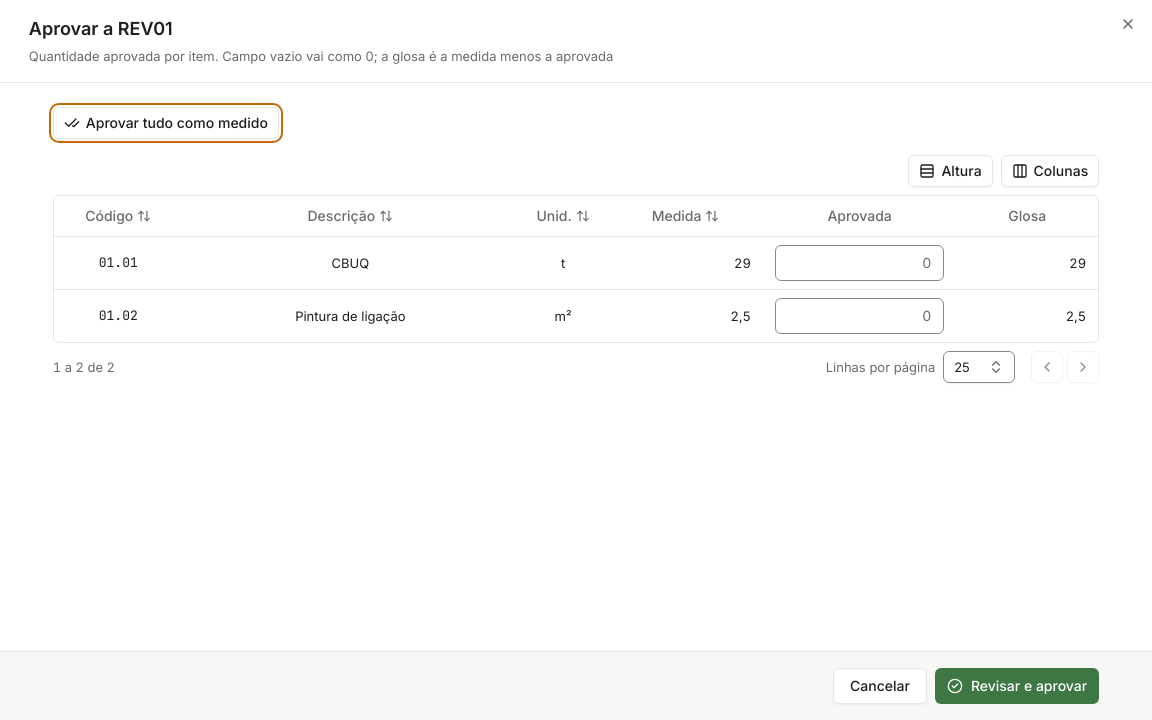
Scenario: AprovarDrawer › valor inválido fica no campo e não abre a confirmação
In the field with placeholder "0" in the row of "01.01": (860, 262) 775,244 -> 944,280, type "abc"
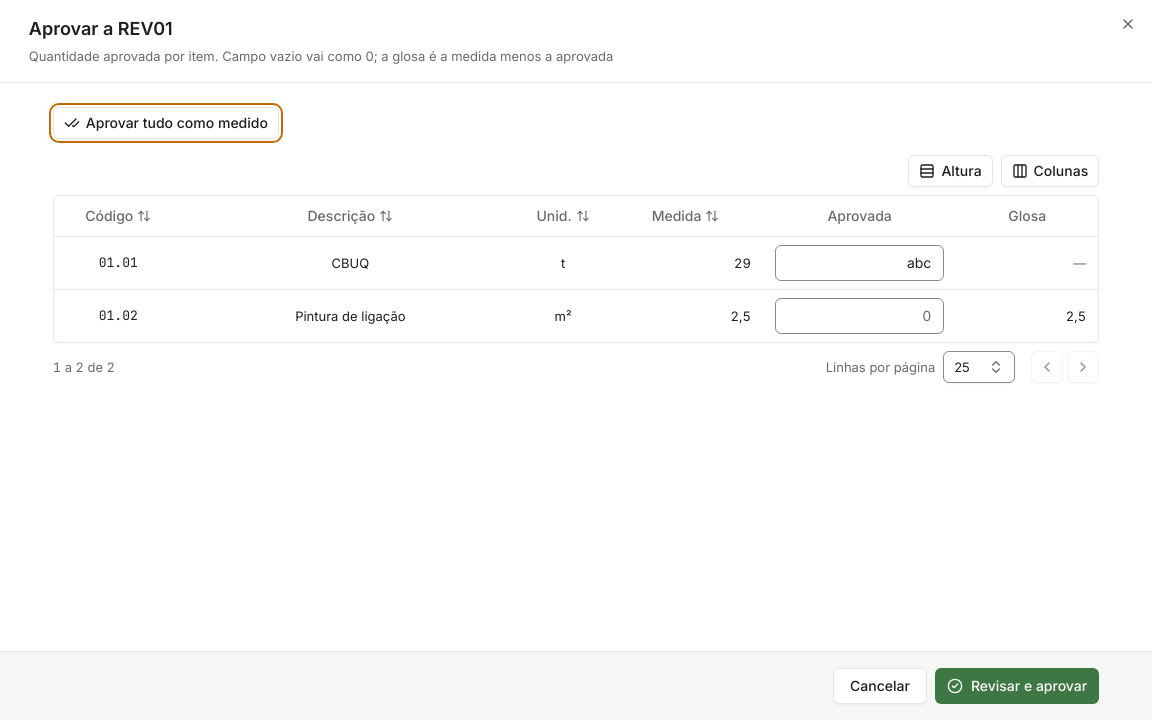
Click the button "Revisar e aprovar": (1017, 686) 935,668 -> 1099,704
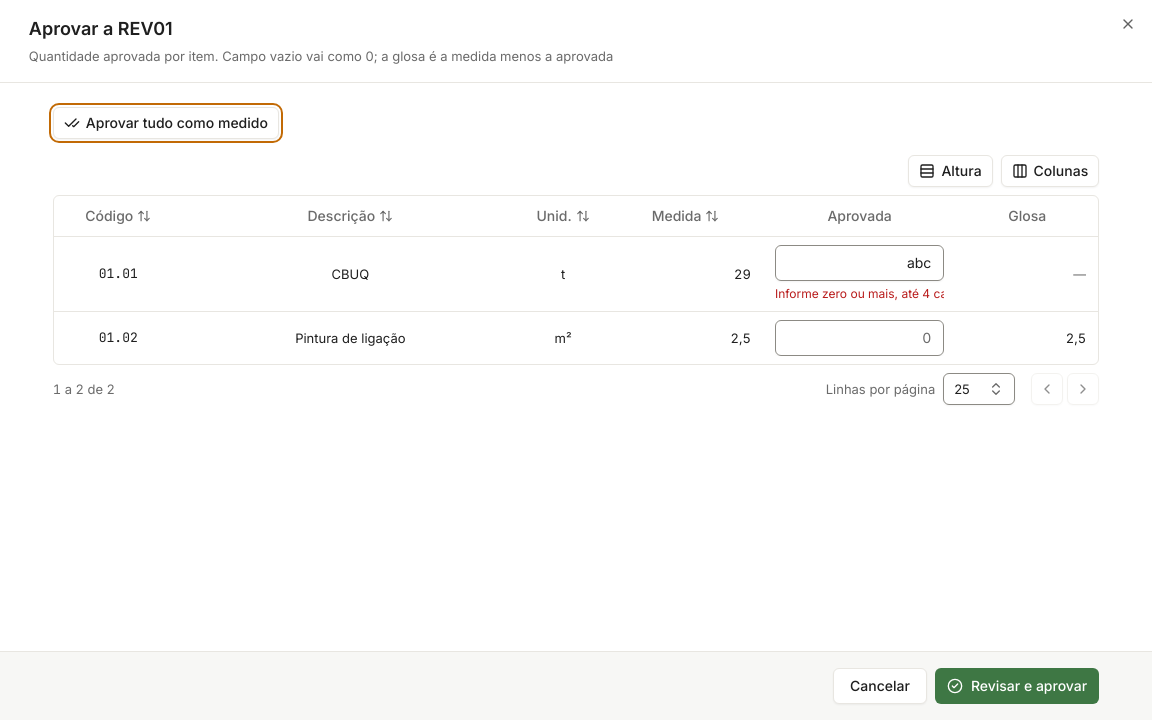
Now the text "Informe zero ou mais, até 4 casas" is shown, box 775,284 -> 944,302
